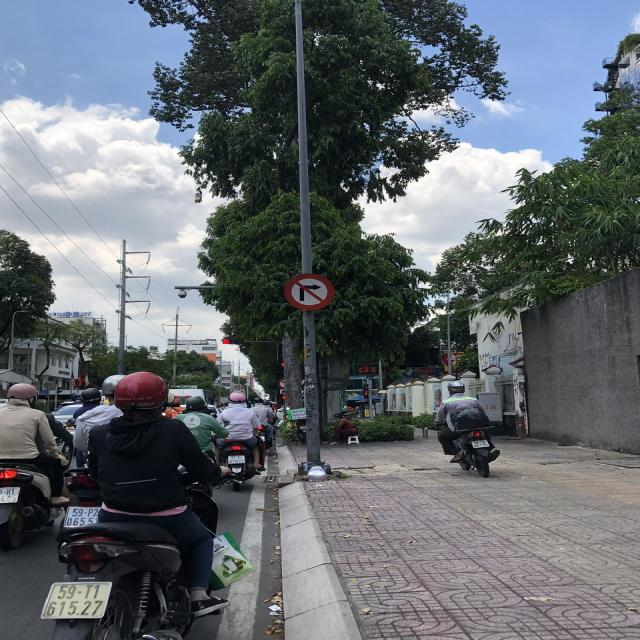Bien bao cam re phai: (282, 271, 334, 313)
